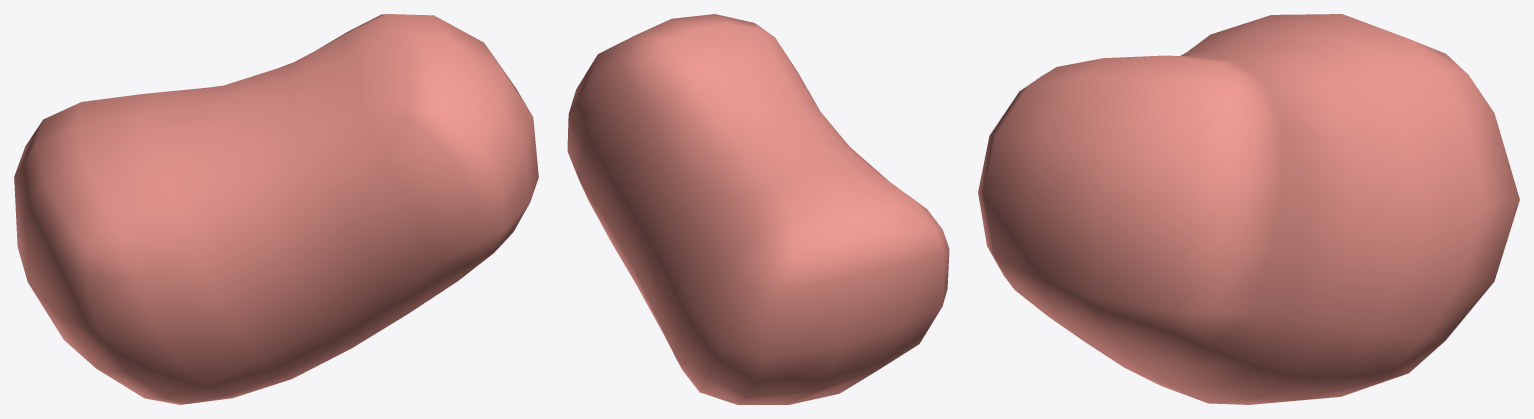
Rendered from mixamo_humanoid_surface_leftHandThumb2.fbx.
The picture shows the model from 3 angles, left to right: view 1: azimuth 30°, elevation 25°; view 2: azimuth 150°, elevation 25°; view 3: azimuth 270°, elevation 25°; orthographic projection. The views are drawn at different scales.
Parts seen in each view (by area): view 1: surface_LeftHandThumb2; view 2: surface_LeftHandThumb2; view 3: surface_LeftHandThumb2.
Part boxes in pixels (x1,y1,x2,y2): surface_LeftHandThumb2: (14,14,538,404); surface_LeftHandThumb2: (567,14,949,404); surface_LeftHandThumb2: (978,14,1519,404).
Size of the model in its own units: 3.48 by 2.53 by 3.05.
